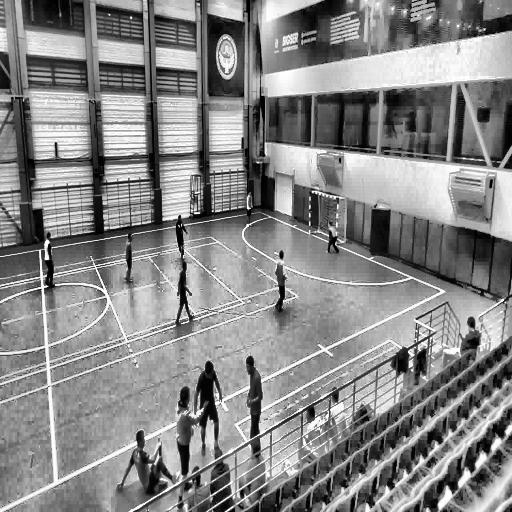player: (195, 361, 222, 461), (175, 385, 195, 479), (246, 354, 263, 449), (175, 258, 195, 324), (273, 249, 286, 314), (43, 232, 55, 289), (176, 215, 188, 260), (325, 220, 339, 255), (125, 233, 134, 283), (244, 189, 254, 226)
